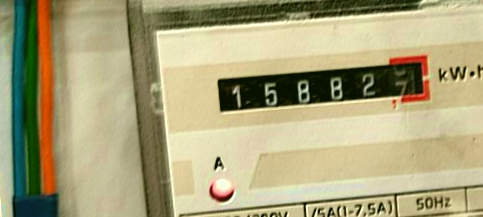1: (229, 81, 245, 110)
2: (360, 70, 378, 99)
5: (261, 79, 281, 107)
7: (392, 78, 410, 96)
8: (294, 77, 312, 106), (328, 73, 345, 102)
screen: (203, 46, 442, 126)
